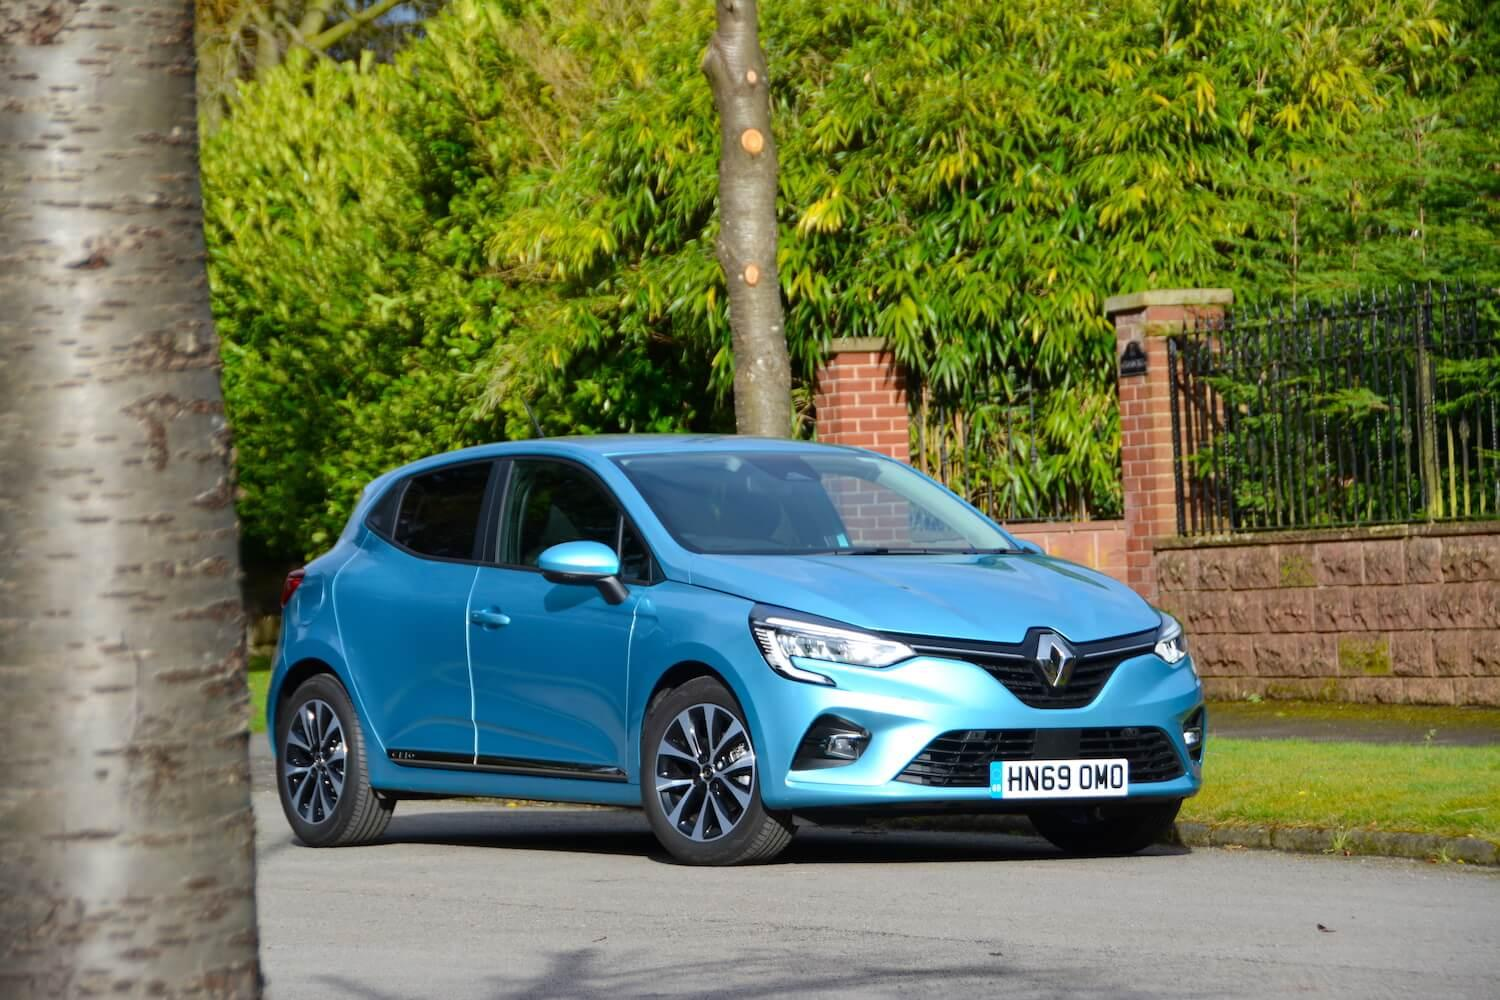Renault: (1029, 622, 1081, 699)
